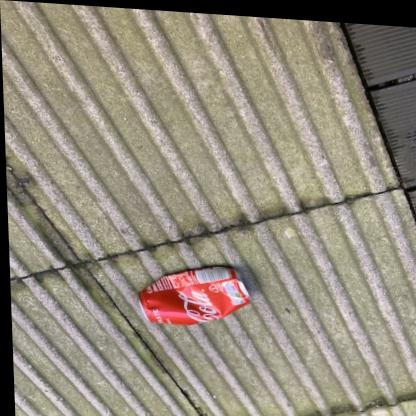trash: (139, 266, 249, 324)
